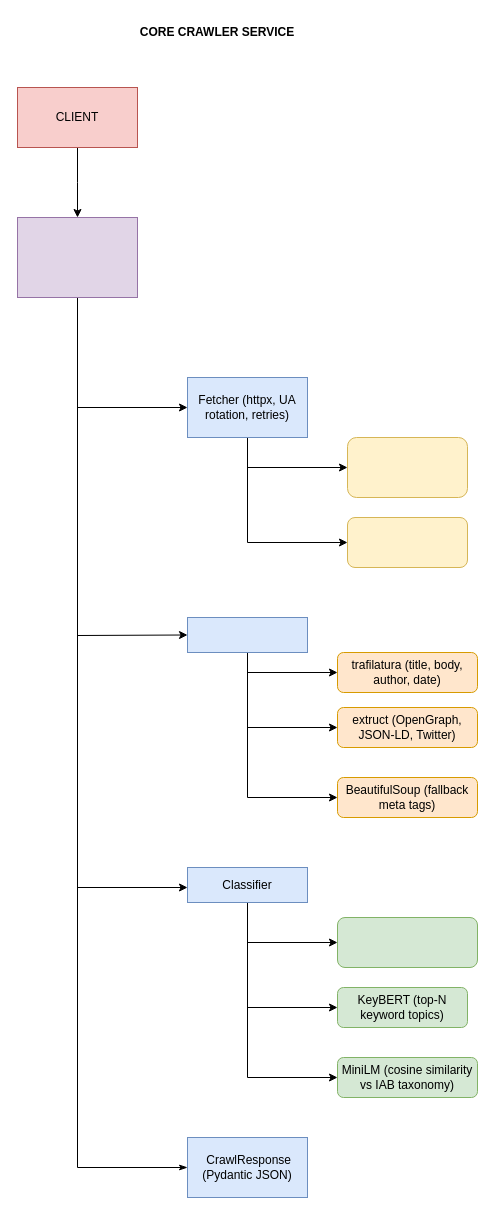
The diagram is 495 pixels wide and 1215 high, and some of its shapes have lost their labels. The box of each missing label's shape, as (x1, y1, x2, y2) in pixels:
Bot detector (captcha detection): (346, 436, 468, 498)
Extractor: (186, 616, 308, 652)
Heuristic (URL pattern, og:type — free, deterministic): (336, 916, 478, 968)
HTML: (346, 516, 468, 568)
POST/Crawl: (16, 216, 138, 298)
